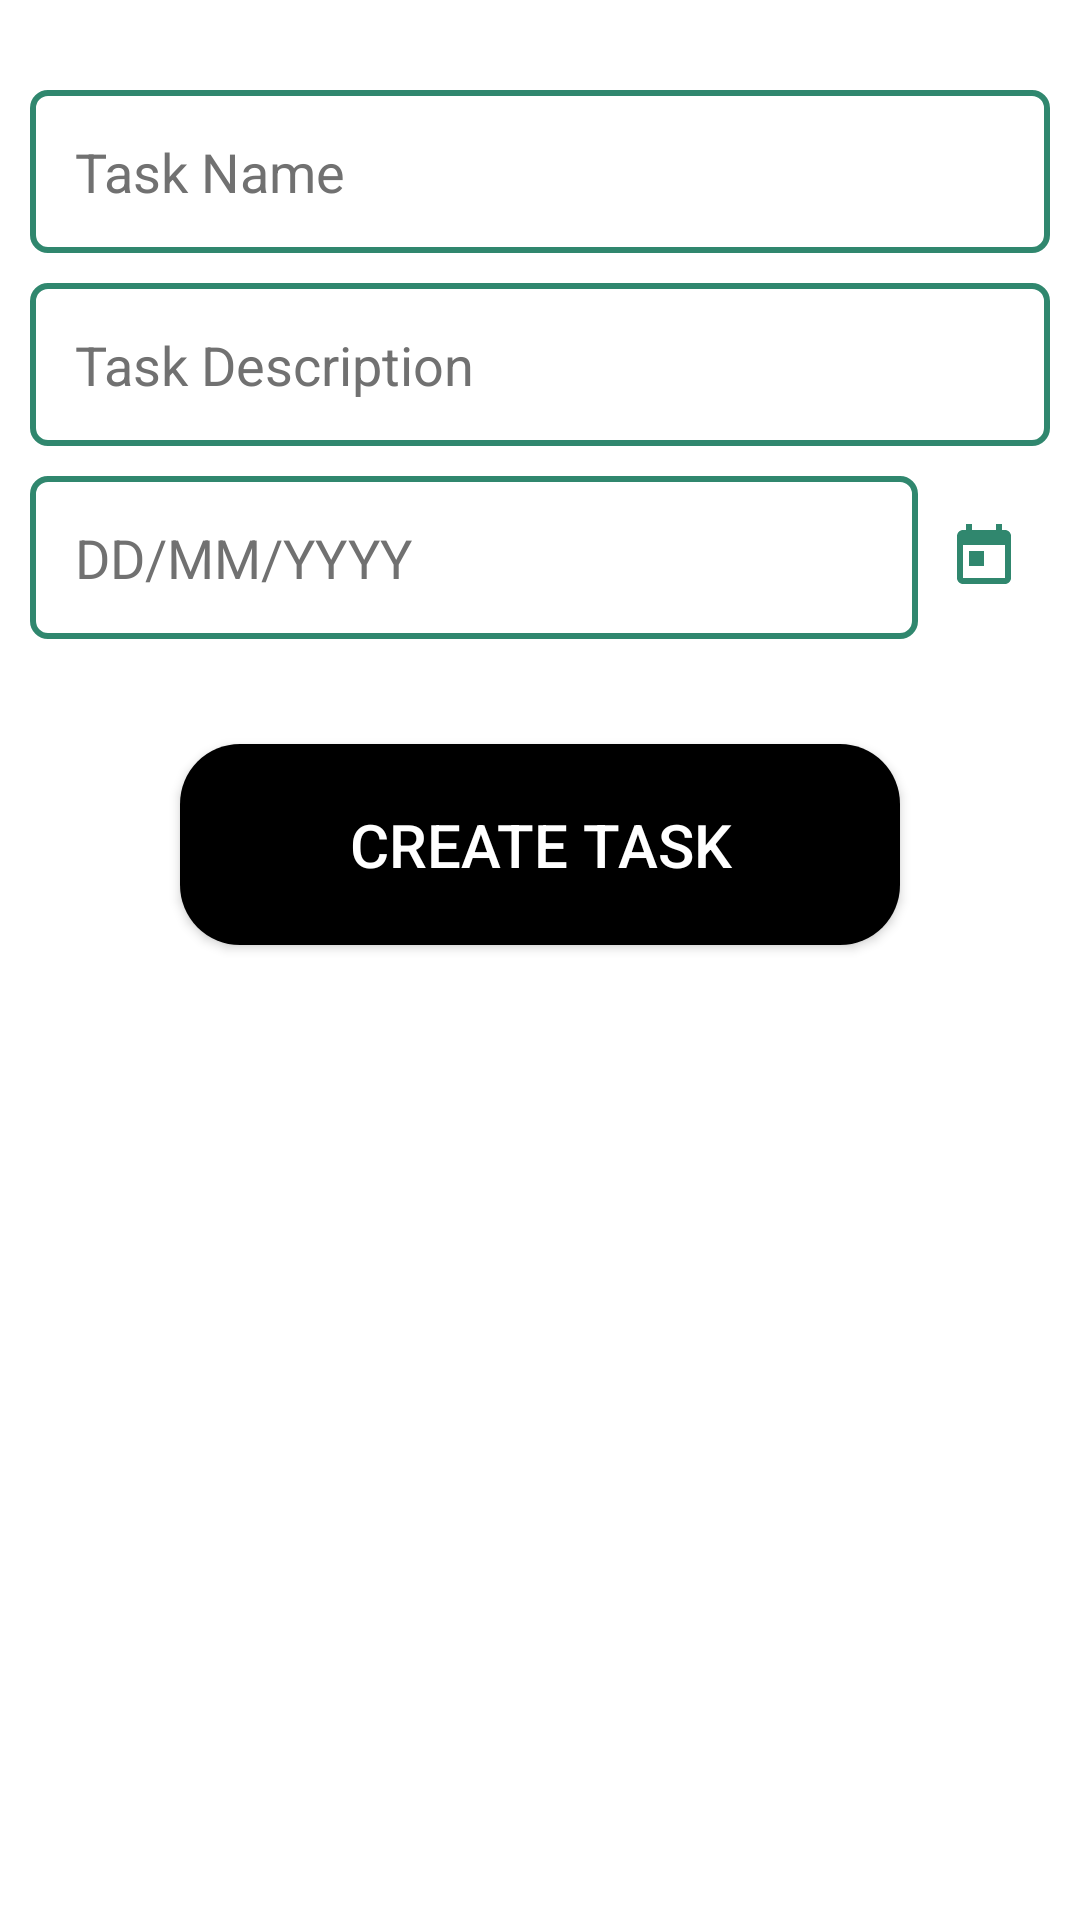

Named icons in this screenshot (1080 x 1920) and their centers, [x,y]:
calendar: [984,554]
